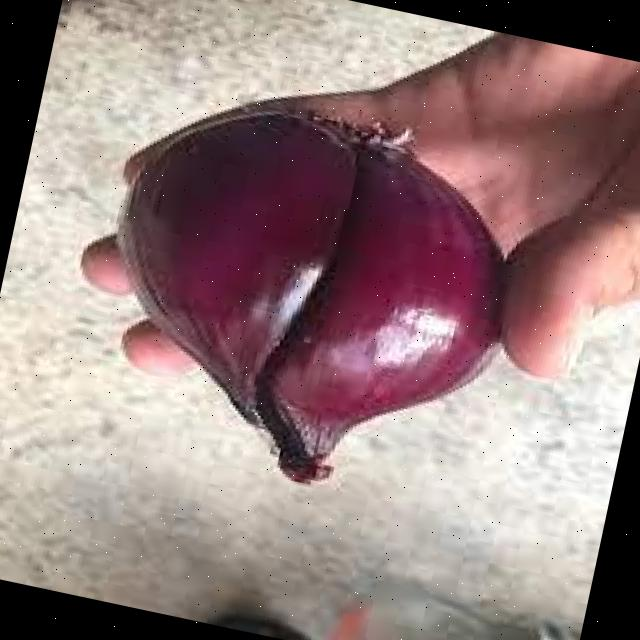Onion: (115, 110, 502, 482)
